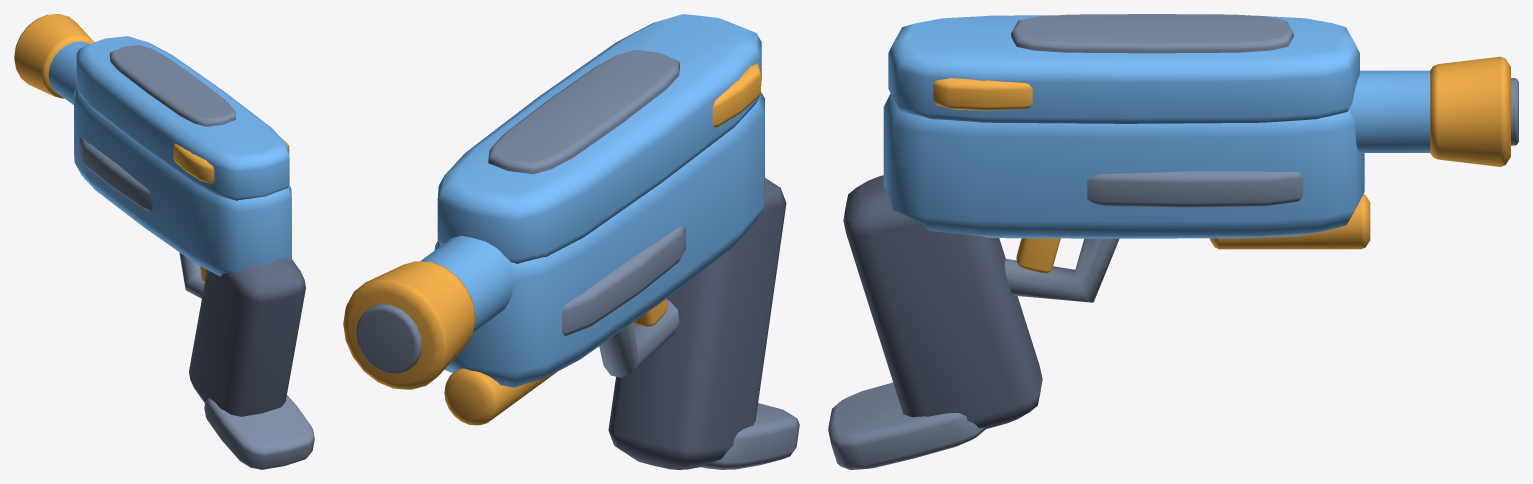
File: popper.glb
The picture shows the model from 3 angles, left to right: view 1: azimuth 30°, elevation 25°; view 2: azimuth 150°, elevation 25°; view 3: azimuth 270°, elevation 25°; orthographic projection. The views are drawn at different scales.
Visible parts, largest first — view 1: Mesh_Chassis_Body, Slide; view 2: Mesh_Chassis_Body, Slide; view 3: Mesh_Chassis_Body, Slide.
Boxes of the visible parts, <box> form: Mesh_Chassis_Body: <box>14,14,314,469</box>; Slide: <box>76,36,289,200</box>; Mesh_Chassis_Body: <box>343,92,799,469</box>; Slide: <box>437,14,761,263</box>; Mesh_Chassis_Body: <box>828,56,1518,469</box>; Slide: <box>888,14,1359,123</box>.
Size of the model in its own units: 0.084 by 0.2496 by 0.3662.
